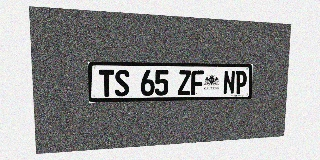5: (155, 70, 169, 96)
6: (141, 70, 155, 96)
F: (191, 70, 204, 95)
N: (223, 71, 235, 94)
P: (235, 71, 247, 94)
S: (115, 70, 129, 96)
T: (99, 69, 114, 97)
Z: (178, 70, 191, 95)
